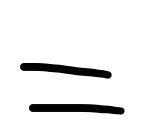eqv: (15, 58, 127, 115)
